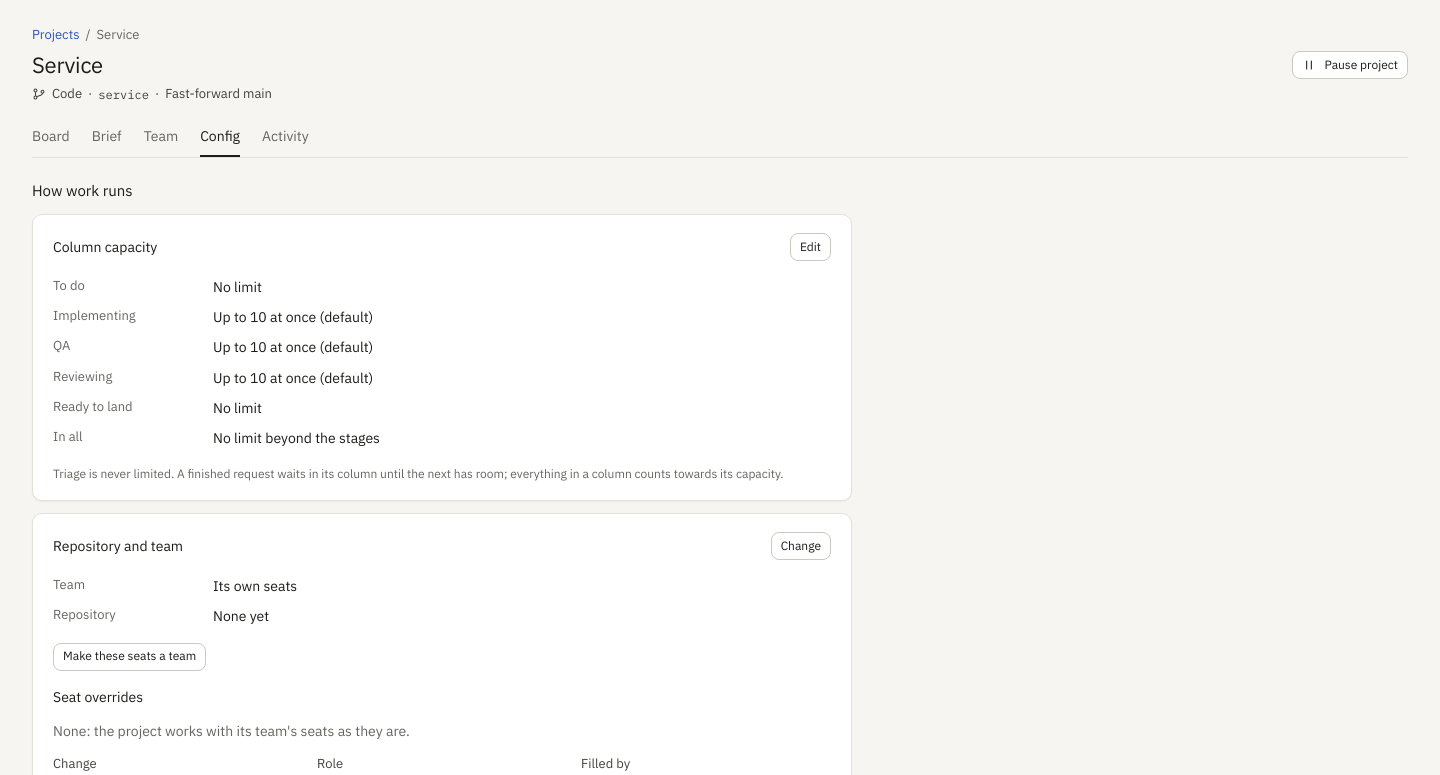
Scenario: the project's cap on requests under way › refreshes and shows what saved if the overall limit fails after stage limits
Click the button "Edit" at (810, 247), box [790,233,831,261]
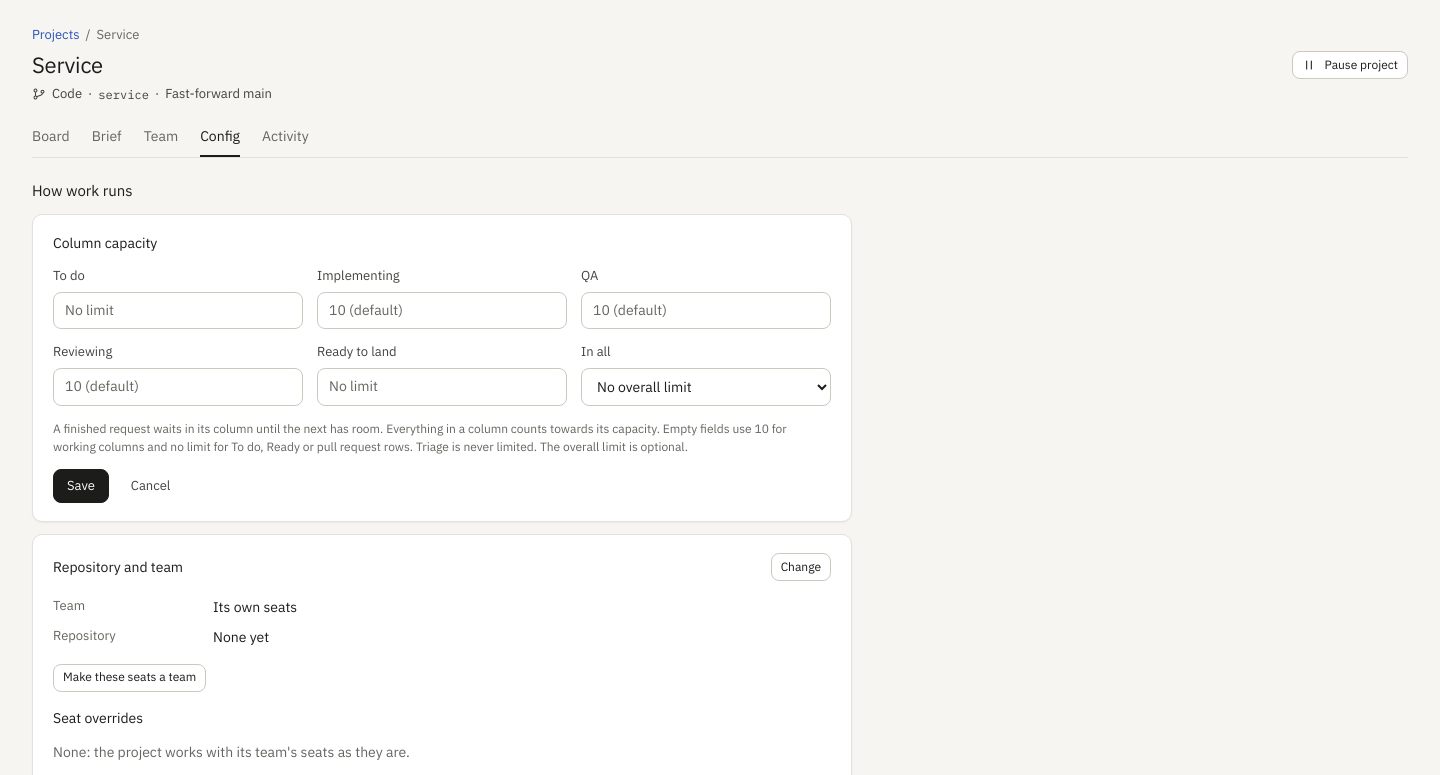
Type "3" into the number field labelled "Implementing" at (442, 311), box [317,292,567,330]
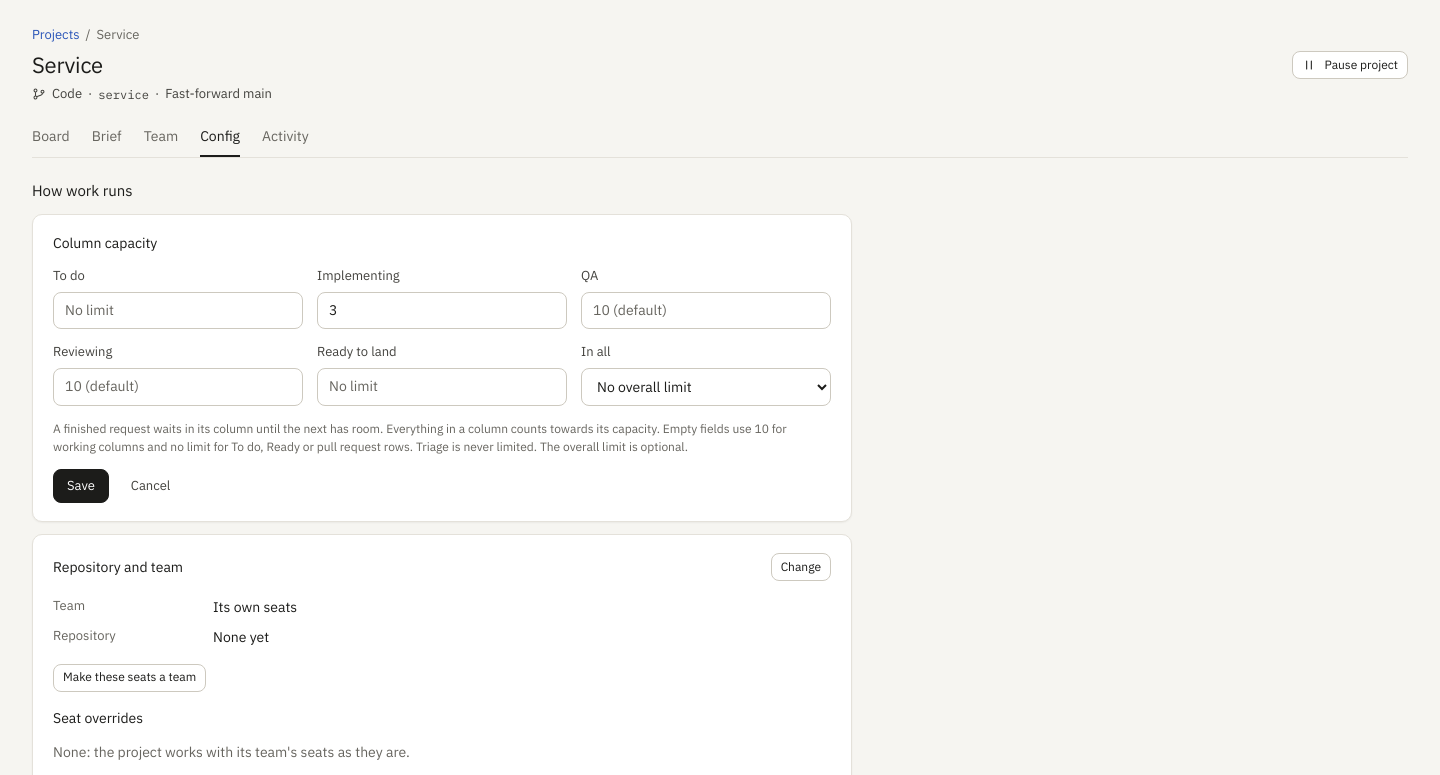
Select "4" in the dropdown labelled "In all" at (706, 387), box [581,368,831,406]
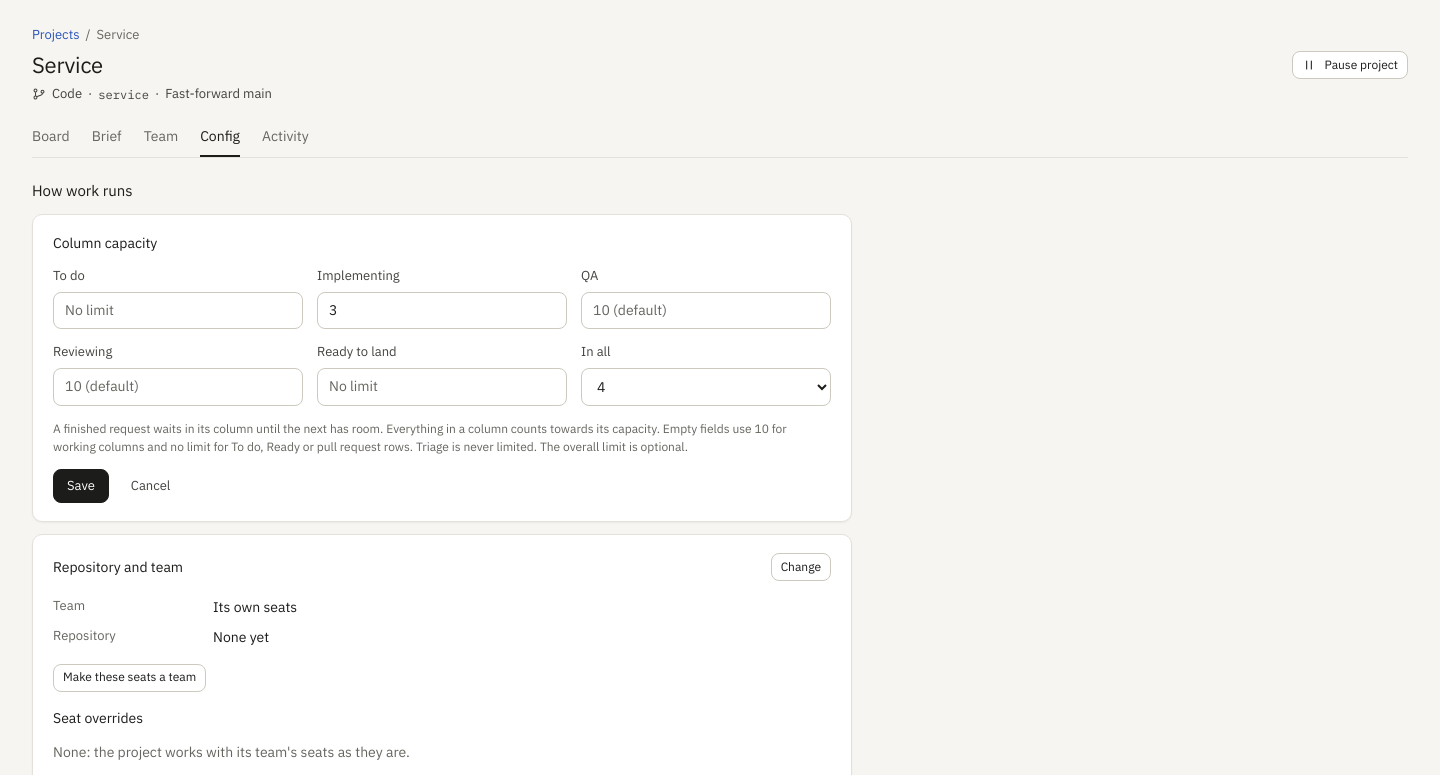
Click the button "Save" at (81, 486), box [53,469,109,503]
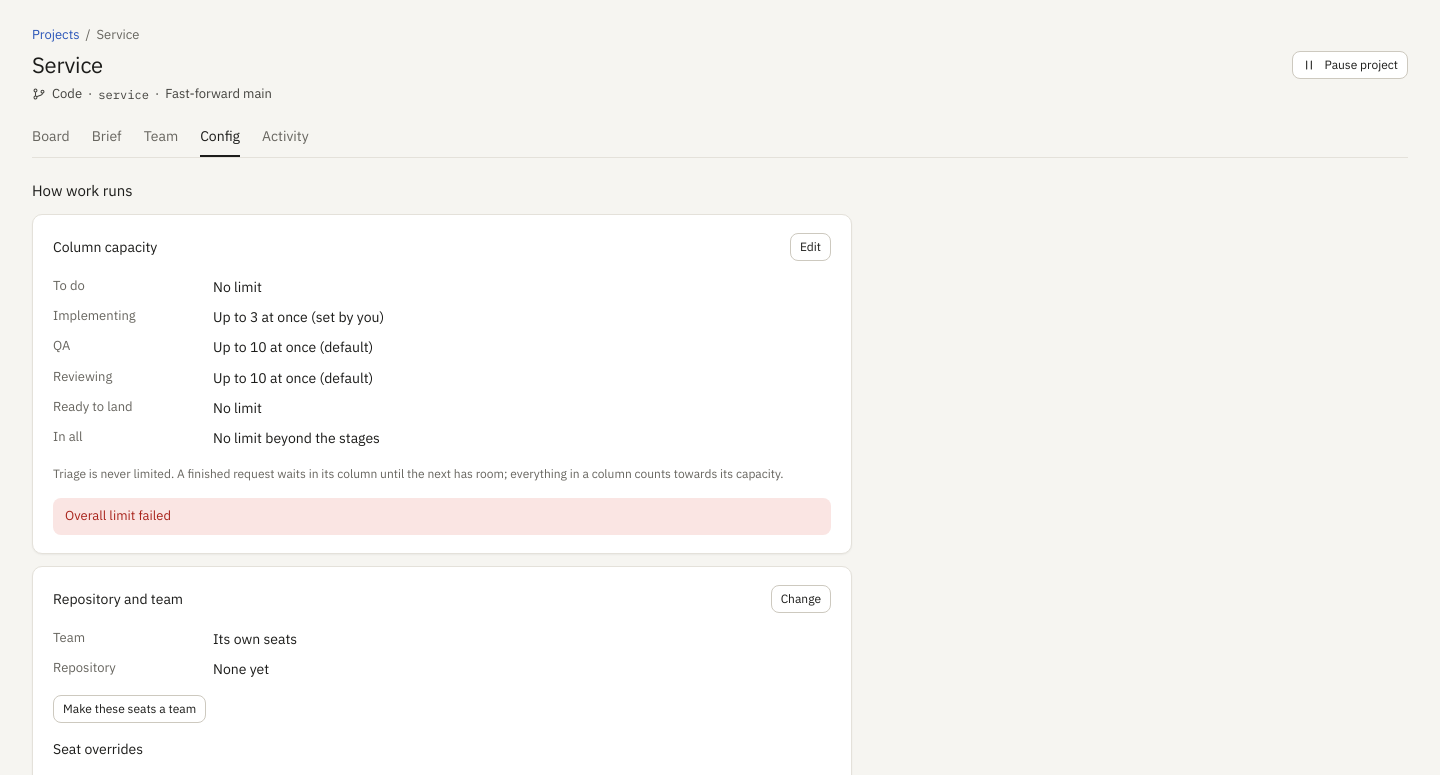
Result: the element "Column capacity" shows "Overall limit failed" at [65,507,171,524]
